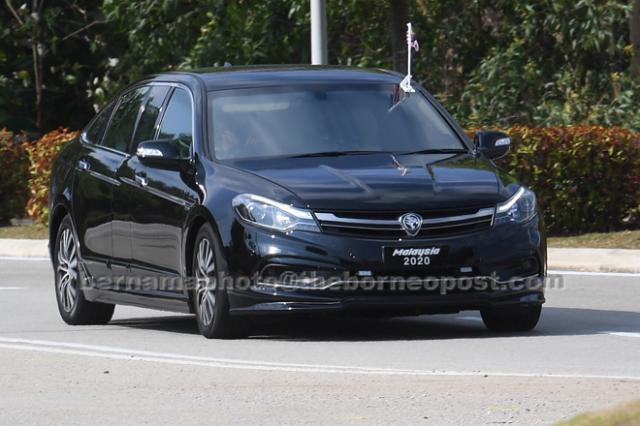License_Plate: (383, 245, 450, 272)
car: (48, 64, 549, 340)
